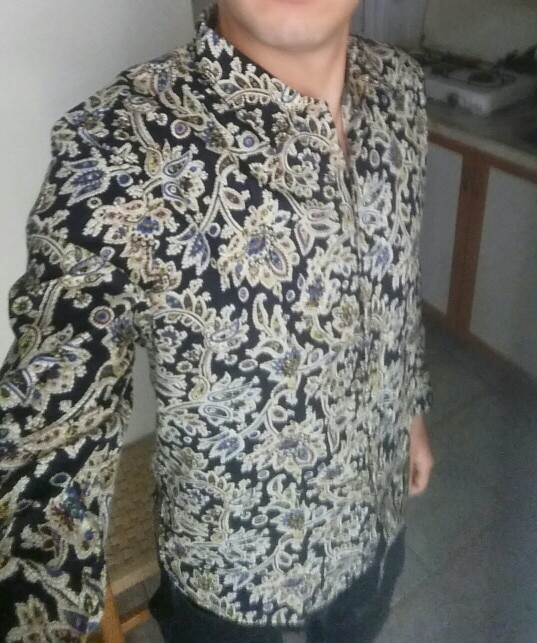shirts: (11, 10, 435, 643)
